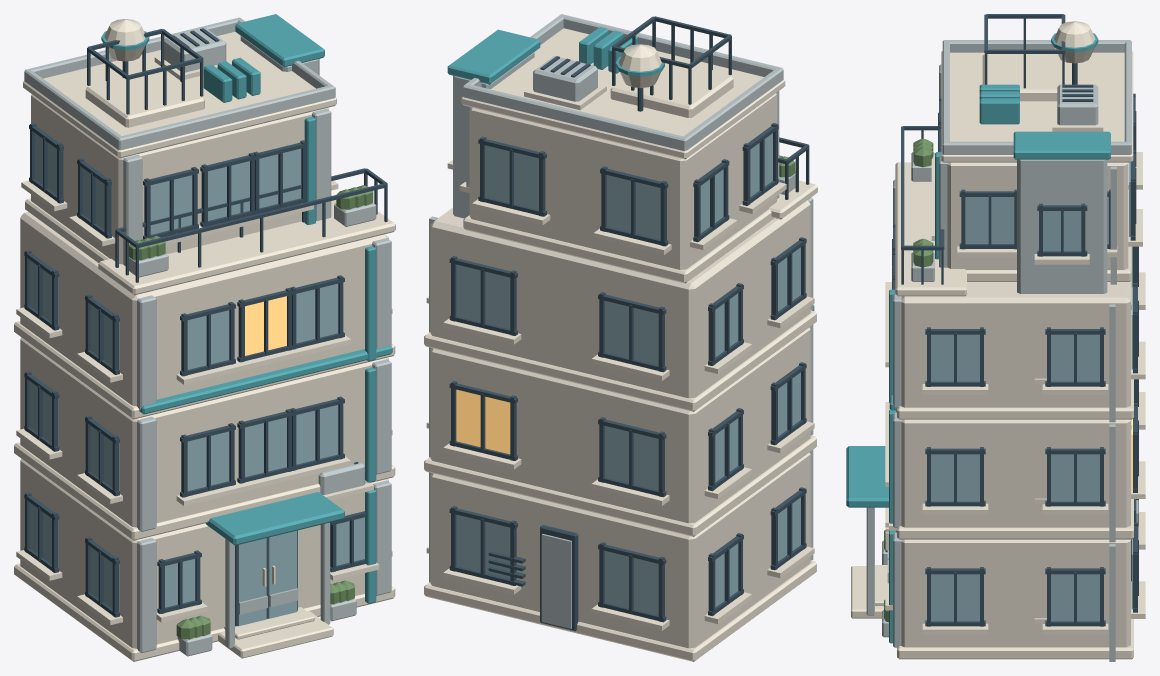
File: development-l04.glb
3 renders of one model, left to right at view 1: azimuth 30°, elevation 25°; view 2: azimuth 150°, elevation 25°; view 3: azimuth 270°, elevation 25°, orthographic. The views are drawn at different scales.
Visible parts, largest first — view 1: development_L04; view 2: development_L04; view 3: development_L04.
Boxes of the visible parts, x1=… form: development_L04: x1=14, y1=14, x2=395, y2=661; development_L04: x1=424, y1=14, x2=817, y2=661; development_L04: x1=846, y1=14, x2=1145, y2=661.
Bounding box in the file's own units: 5.17 × 9.75 × 4.8.
